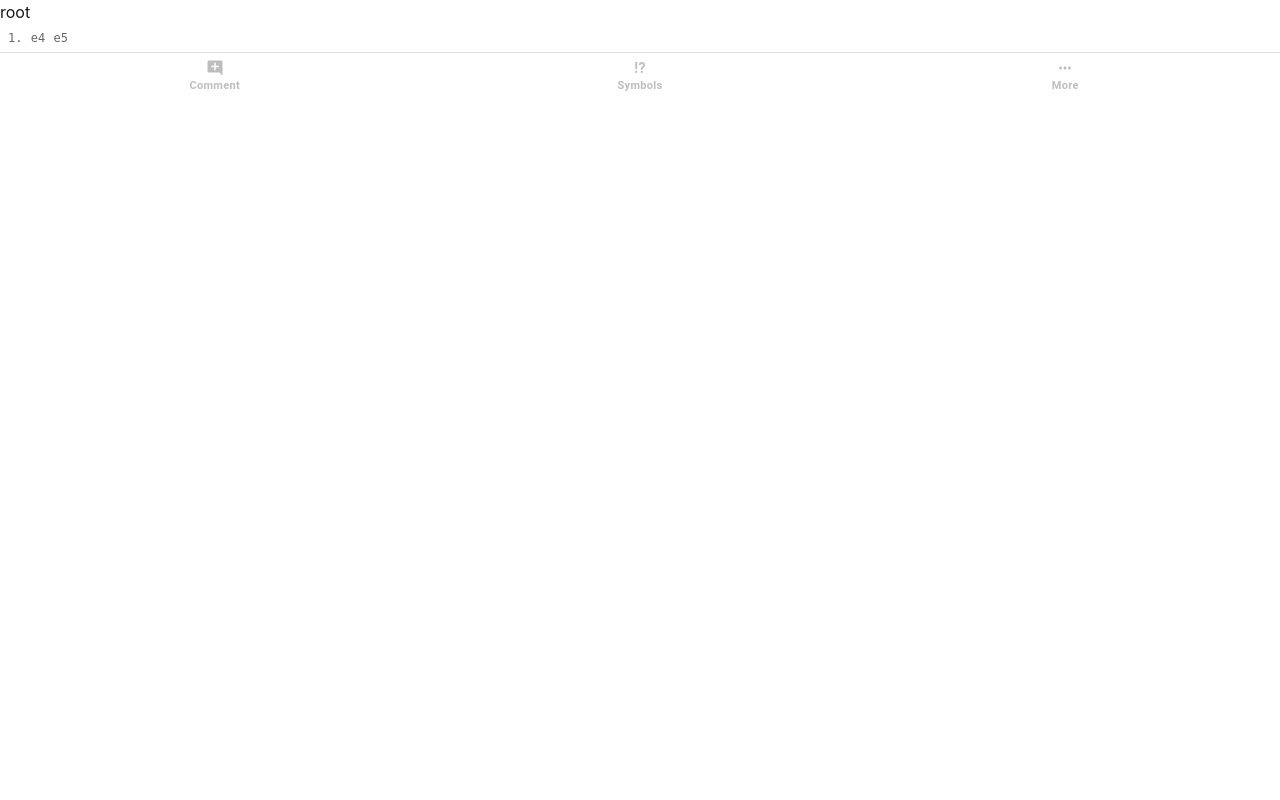
Test: Mobile action sheet › first tap selects, second tap on the selected move opens the sheet
What coordinates should you click on to do the following:
click the text "e5"
I would click on:
 (61, 38)
Its box is [53, 31, 68, 45].
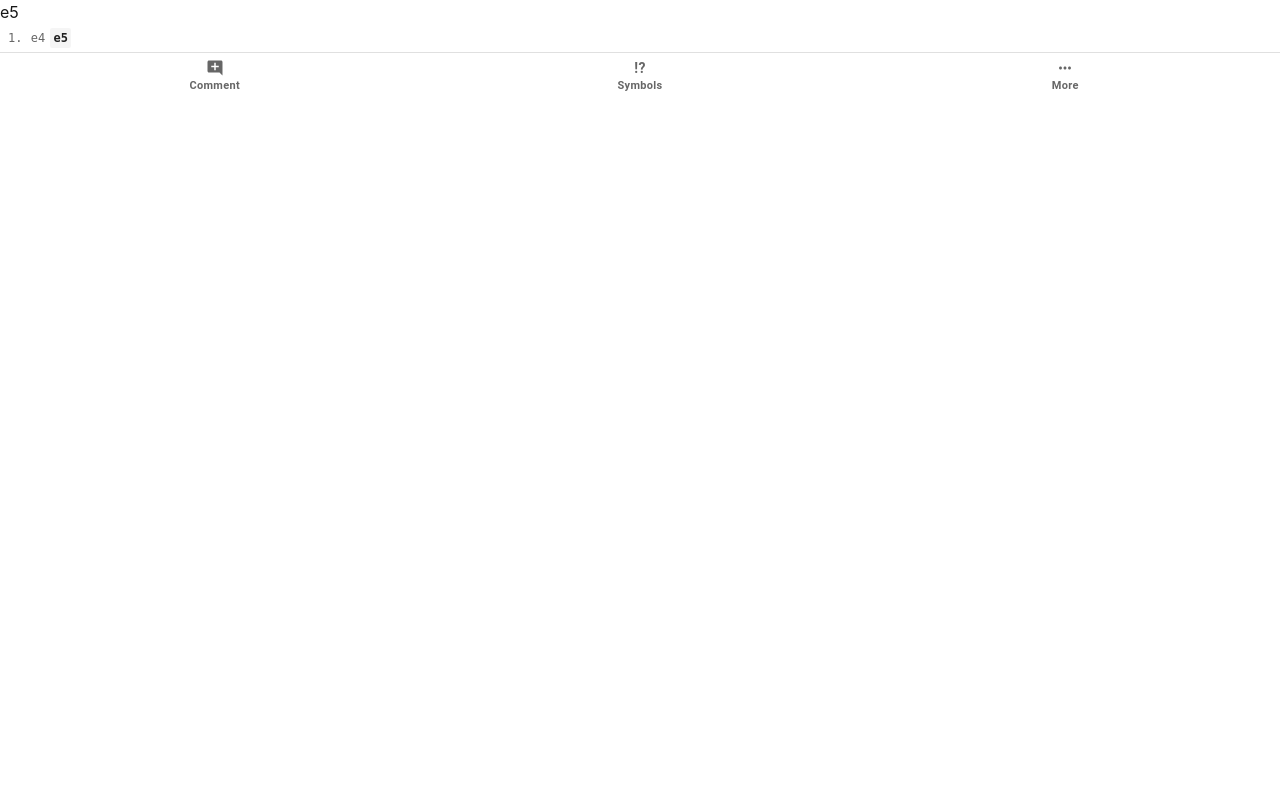
Result: the text with test id "selected" reads "e5" at [0, 2, 19, 22]
What coordinates should you click on to do the following:
click the text "e5" next to "e4"
I would click on:
 (61, 38)
Its box is [50, 28, 71, 48].
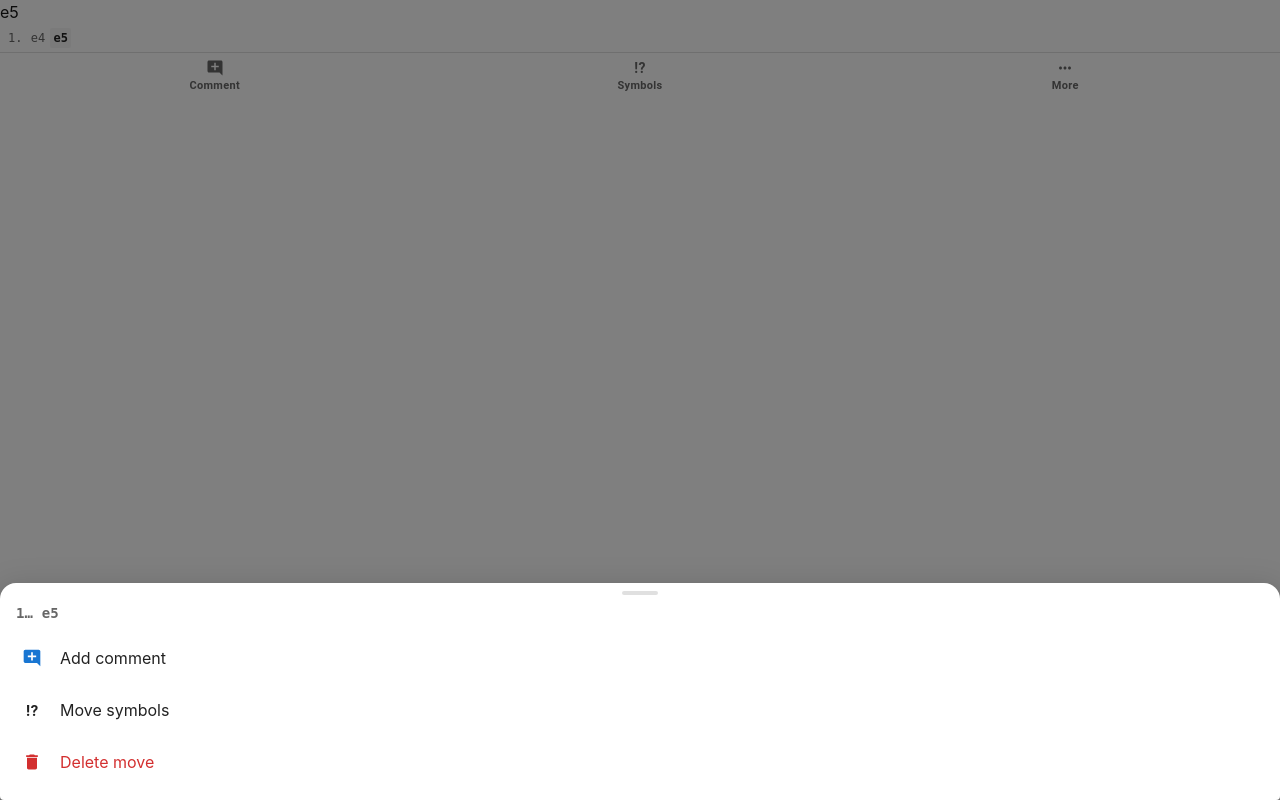
Result: the menu items read "Add comment", "!?Move symbols", "Delete move", in this order at [8, 632, 1272, 684]; [8, 684, 1272, 736]; [8, 736, 1272, 788]
